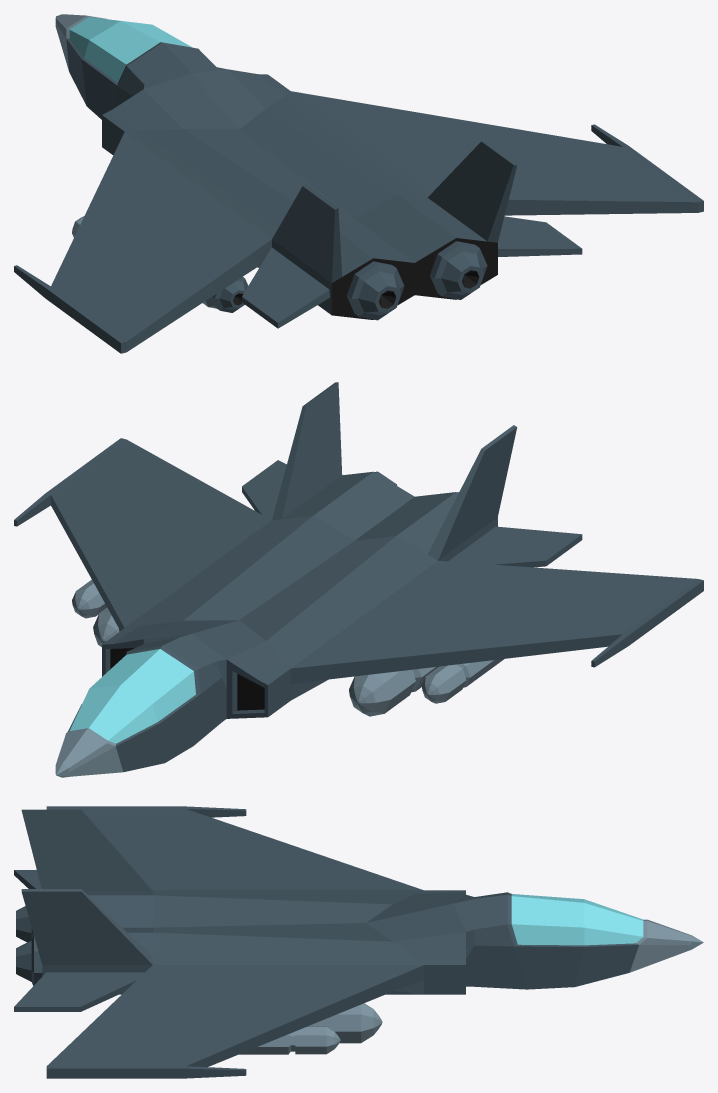
The model's file is air_jet.glb.
3 renders of one model, top to bottom at view 1: azimuth 30°, elevation 25°; view 2: azimuth 150°, elevation 25°; view 3: azimuth 270°, elevation 25°, orthographic. The views are drawn at different scales.
Parts seen in each view (by area): view 1: Jet_Cube.024; view 2: Jet_Cube.024; view 3: Jet_Cube.024.
Part boxes in pixels (x1=…): Jet_Cube.024: x1=14, y1=14, x2=703, y2=353; Jet_Cube.024: x1=14, y1=382, x2=703, y2=777; Jet_Cube.024: x1=14, y1=806, x2=703, y2=1078.
Bounding box in the file's own units: 0.8993 × 0.2171 × 1.
